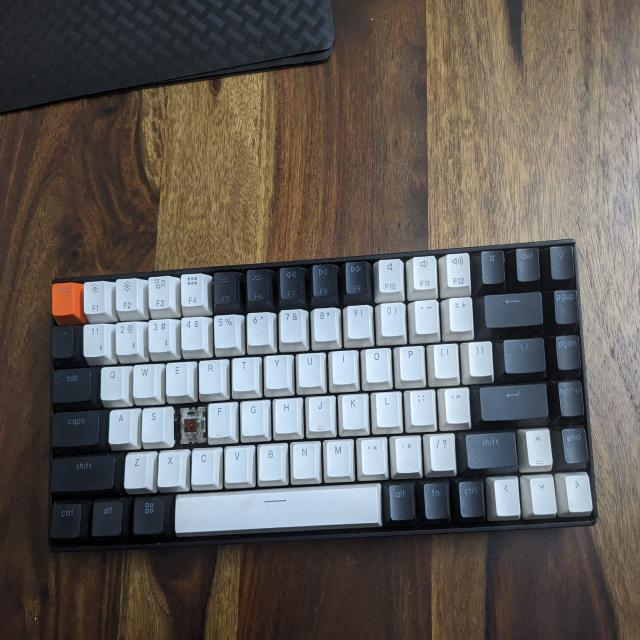C: (176, 401, 211, 445)
